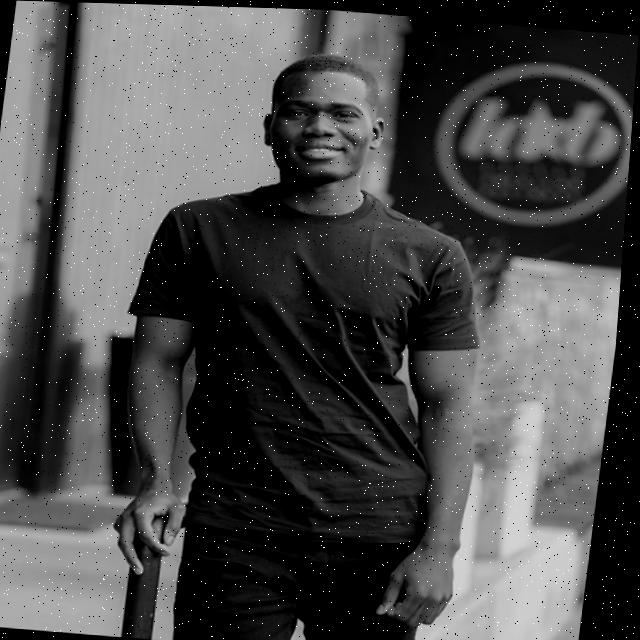Upper-Body: (134, 182, 487, 539)
